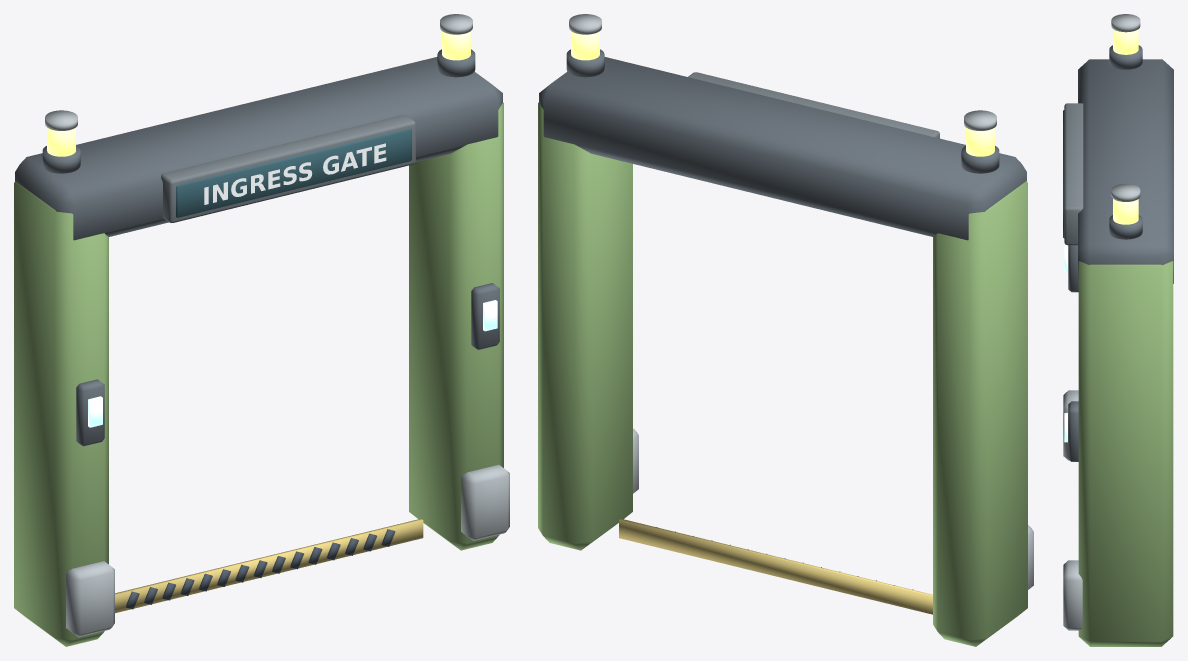
The model's file is ingress_gate_enhanced.glb.
The picture shows the model from 3 angles, left to right: view 1: azimuth 30°, elevation 25°; view 2: azimuth 150°, elevation 25°; view 3: azimuth 270°, elevation 25°; orthographic projection. The views are drawn at different scales.
Parts seen in each view (by area): view 1: Pillar_green_legacy_0, Header_dark_legacy_4, SignPlate_glass, Footing_steel_legacy_11, ScreenMount_frame, Detail_yellow_legacy_9, AccessPanel_dark_legacy_12, Detail_black_legacy_10, TypeLabel_white, StatusLight_warn_legacy_2, Beacon_dark_legacy_1, Beacon_steel_legacy_3 (+1 smaller); view 2: Pillar_green_legacy_0, Header_dark_legacy_4, Detail_yellow_legacy_9, ScreenMount_frame, StatusLight_warn_legacy_2, Beacon_dark_legacy_1, Beacon_steel_legacy_3, Footing_steel_legacy_11; view 3: Pillar_green_legacy_0, Header_dark_legacy_4, ScreenMount_frame, Footing_steel_legacy_11, StatusLight_warn_legacy_2, Beacon_dark_legacy_1, AccessPanel_dark_legacy_12, Beacon_steel_legacy_3, SignPlate_glass, StatusLight_glow_legacy_13.
Part boxes in pixels (left/top/right/bottom): Pillar_green_legacy_0: left=14, top=102, right=503, bottom=646; Header_dark_legacy_4: left=15, top=57, right=502, bottom=240; SignPlate_glass: left=176, top=128, right=411, bottom=217; Footing_steel_legacy_11: left=66, top=464, right=509, bottom=637; ScreenMount_frame: left=161, top=115, right=415, bottom=222; Detail_yellow_legacy_9: left=115, top=518, right=423, bottom=613; AccessPanel_dark_legacy_12: left=76, top=283, right=499, bottom=446; Detail_black_legacy_10: left=125, top=529, right=395, bottom=609; TypeLabel_white: left=204, top=143, right=386, bottom=204; StatusLight_warn_legacy_2: left=47, top=31, right=470, bottom=156; Beacon_dark_legacy_1: left=42, top=49, right=475, bottom=173; Beacon_steel_legacy_3: left=45, top=14, right=472, bottom=130; Pillar_green_legacy_0: left=538, top=102, right=1027, bottom=646; Header_dark_legacy_4: left=539, top=57, right=1026, bottom=240; Detail_yellow_legacy_9: left=619, top=518, right=932, bottom=614; ScreenMount_frame: left=688, top=72, right=939, bottom=138; StatusLight_warn_legacy_2: left=571, top=31, right=994, bottom=156; Beacon_dark_legacy_1: left=566, top=49, right=999, bottom=173; Beacon_steel_legacy_3: left=569, top=14, right=996, bottom=130; Footing_steel_legacy_11: left=633, top=428, right=1033, bottom=589; Pillar_green_legacy_0: left=1078, top=261, right=1173, bottom=646; Header_dark_legacy_4: left=1078, top=59, right=1173, bottom=283; ScreenMount_frame: left=1064, top=103, right=1083, bottom=245; Footing_steel_legacy_11: left=1063, top=390, right=1082, bottom=630; StatusLight_warn_legacy_2: left=1113, top=29, right=1138, bottom=224; Beacon_dark_legacy_1: left=1109, top=45, right=1142, bottom=239; AccessPanel_dark_legacy_12: left=1068, top=245, right=1078, bottom=461; Beacon_steel_legacy_3: left=1111, top=14, right=1140, bottom=201; SignPlate_glass: left=1063, top=110, right=1064, bottom=238; StatusLight_glow_legacy_13: left=1064, top=243, right=1067, bottom=442.
Bounding box in the file's own units: 3.14 × 3.41 × 0.769.
